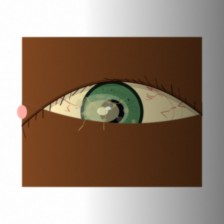corneal_ulcer: (75, 89, 130, 133)
